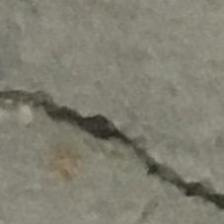Crack: (0, 87, 224, 224)
